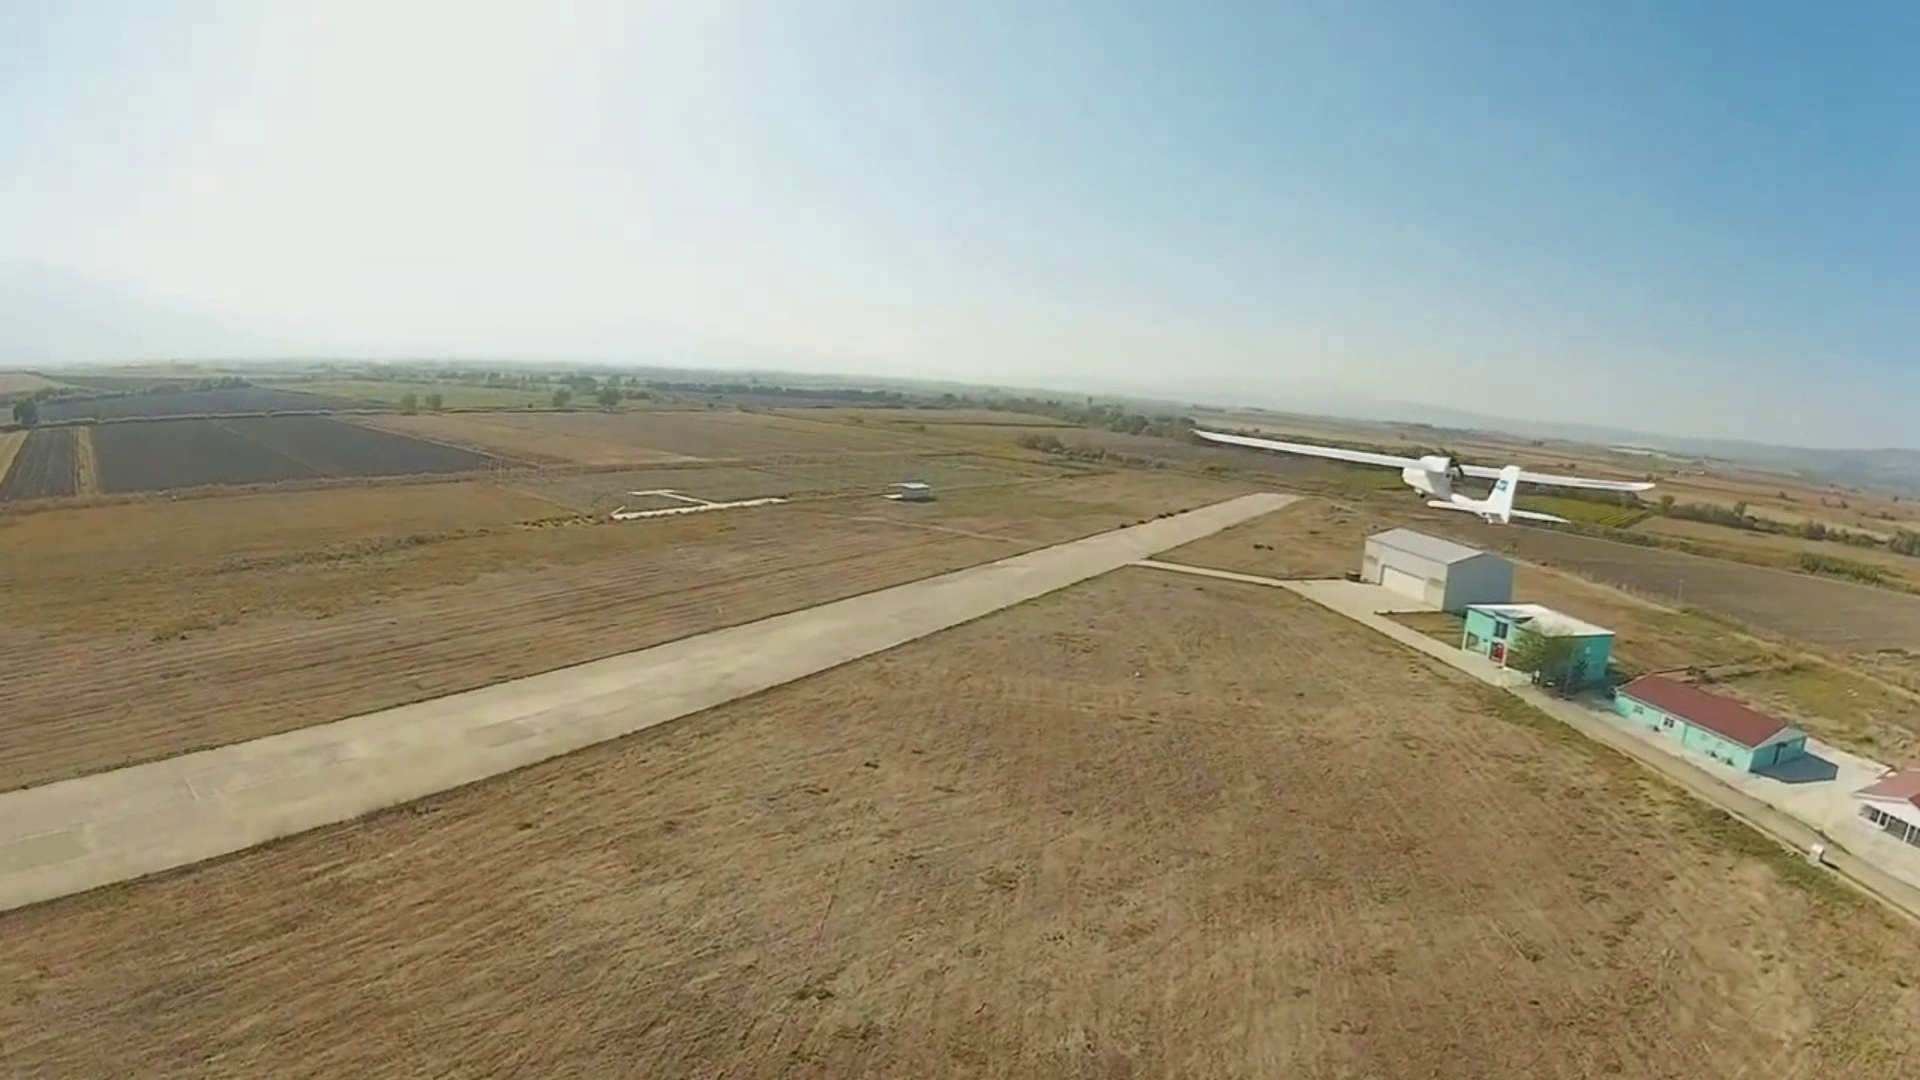airplane: (1184, 410, 1662, 529)
